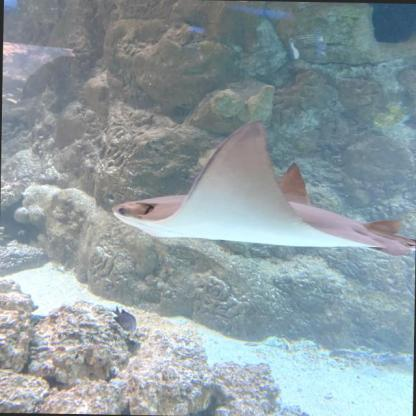fish: (112, 306, 136, 330)
stingray: (110, 115, 416, 257)
